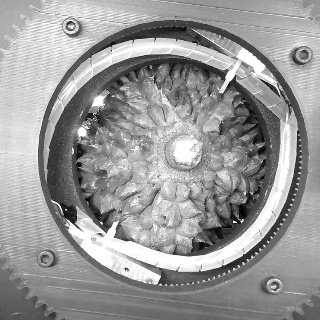base: (156, 131, 206, 181)
end: (171, 136, 203, 167)
